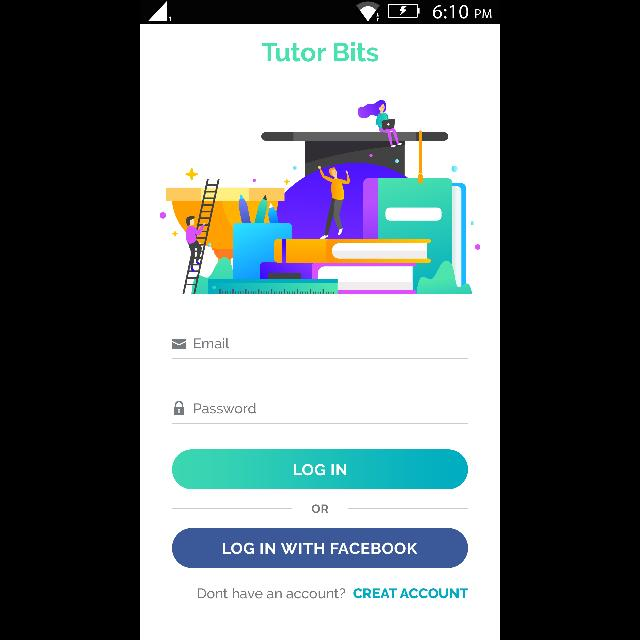icon: (173, 401, 184, 415), (172, 339, 186, 349)
image: (160, 100, 480, 294)
input: (172, 400, 468, 424), (172, 338, 468, 360)
text: (262, 42, 378, 62), (198, 588, 346, 598), (354, 588, 468, 598), (194, 402, 256, 413), (194, 338, 230, 348), (312, 504, 328, 514)
textbutton: (172, 450, 468, 490), (172, 528, 468, 568)
uppertaskbar: (140, 0, 500, 24)
